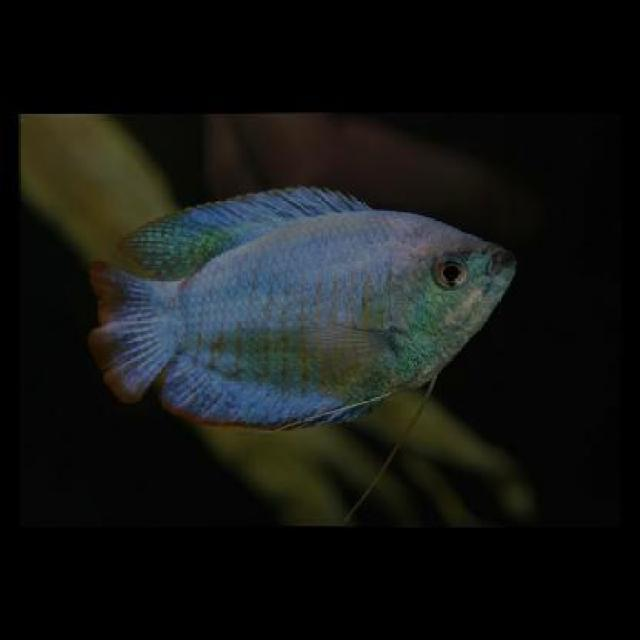Gourami: (87, 186, 522, 429)
